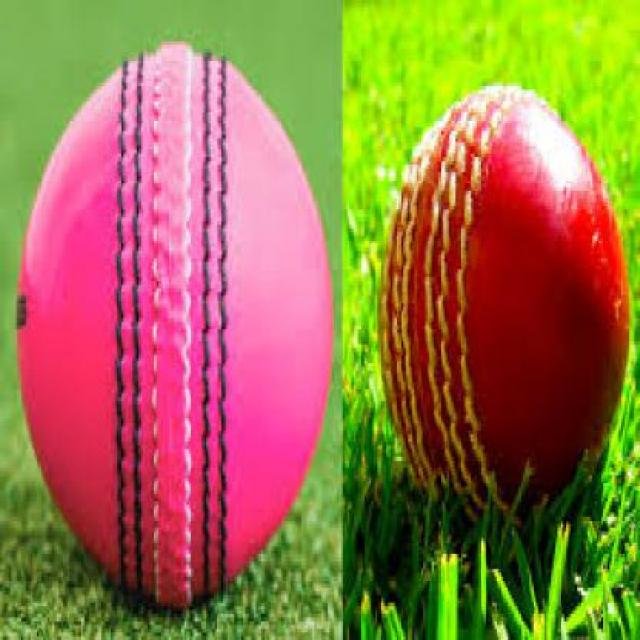ball: (346, 72, 640, 520)
